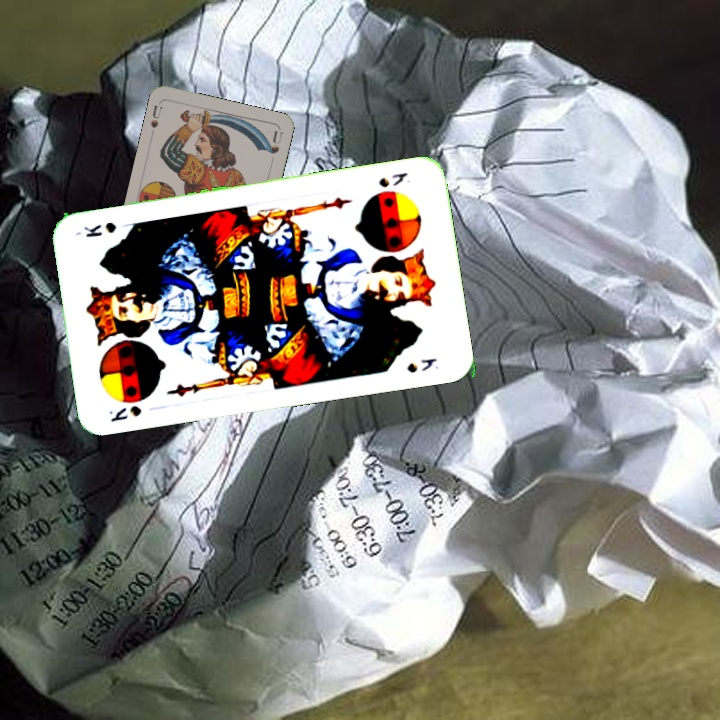SK: (105, 401, 145, 425), (374, 168, 410, 190)
SU: (146, 101, 165, 131)
